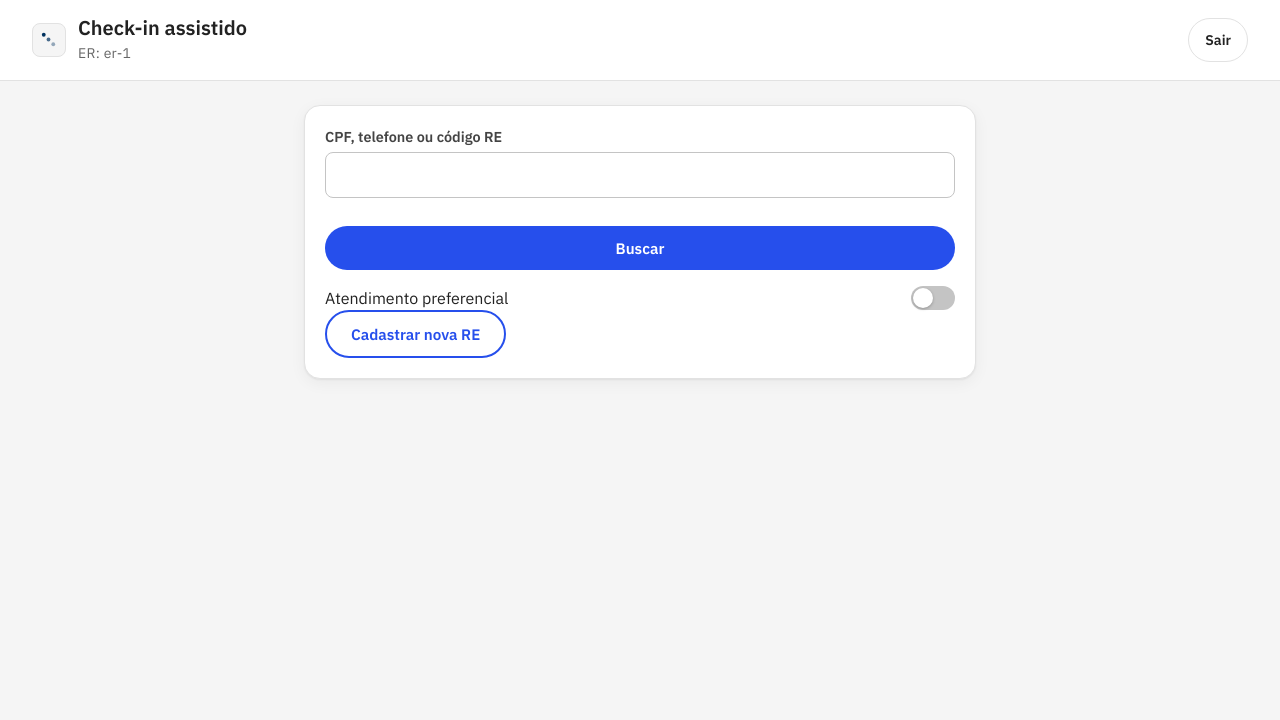
Scenario: CheckinAttendantPage › shows a generic message when the ticket request rejects with a non-error value
In the field labelled "CPF, telefone ou código RE": point(640, 175) [325,152,955,198], type "ana"
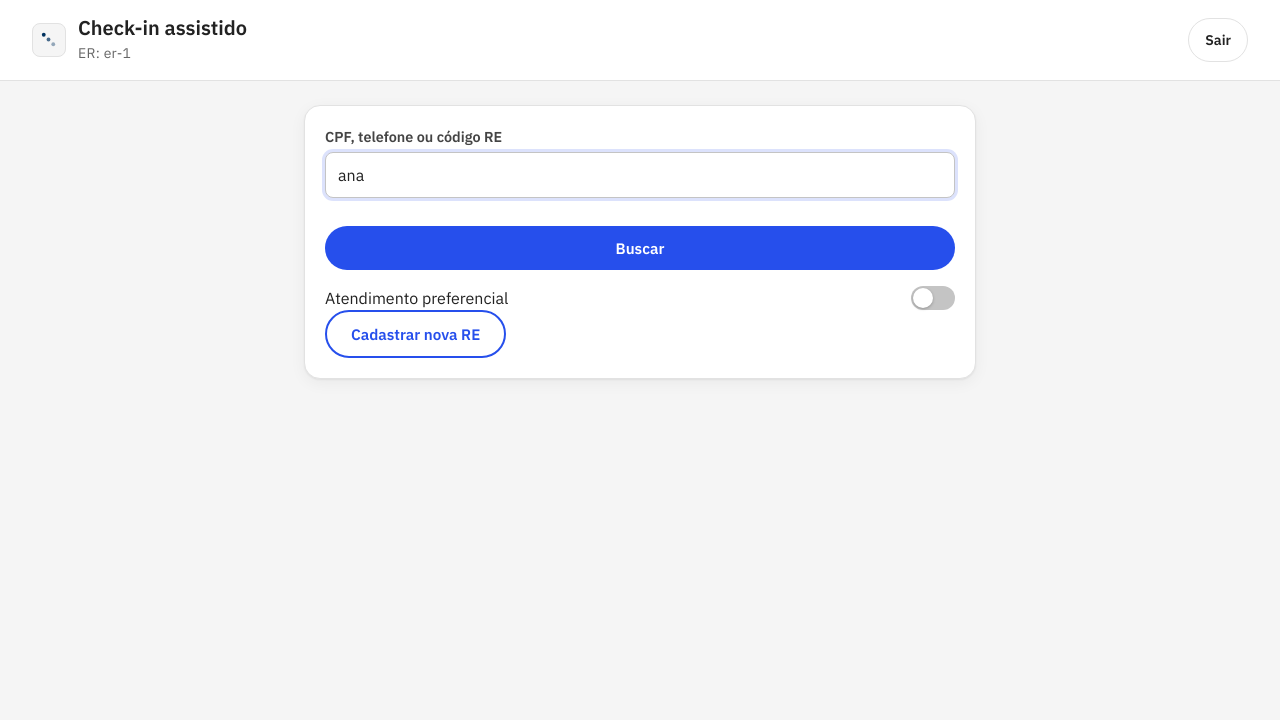
Click the button "Buscar": point(640, 248) [325,226,955,270]
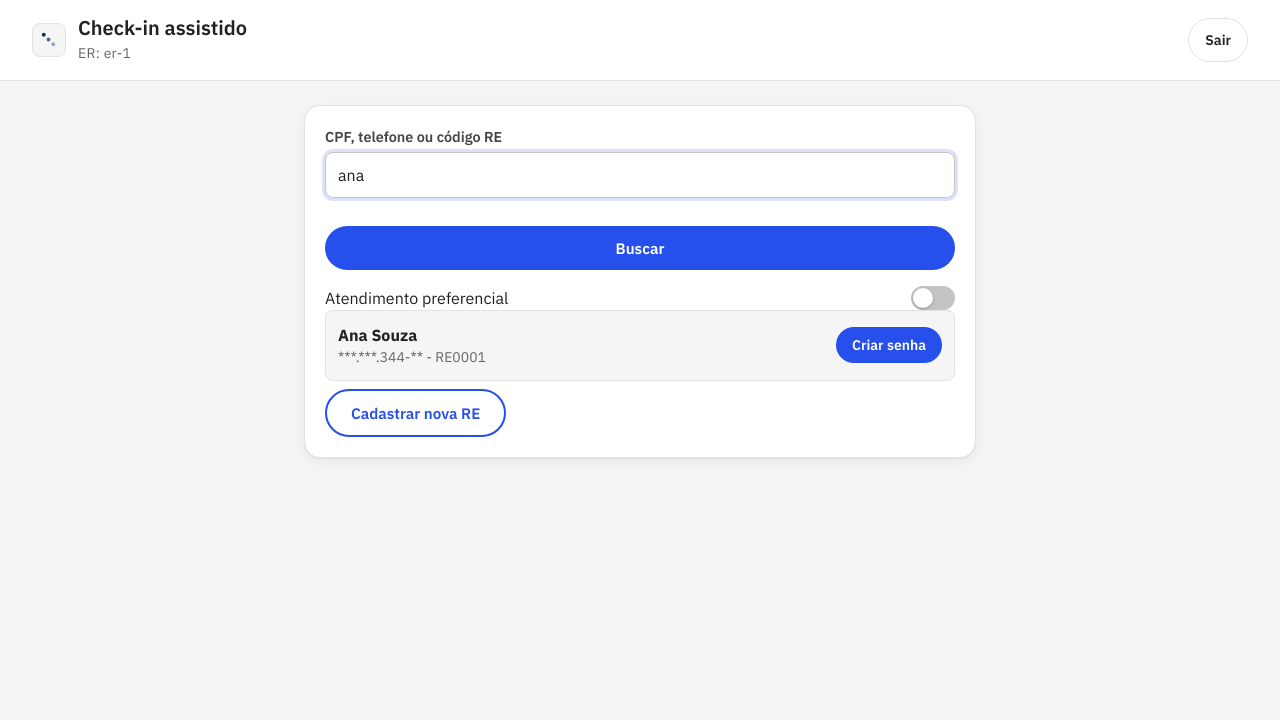
Click the button "Criar senha": point(889, 345) [836,327,942,363]
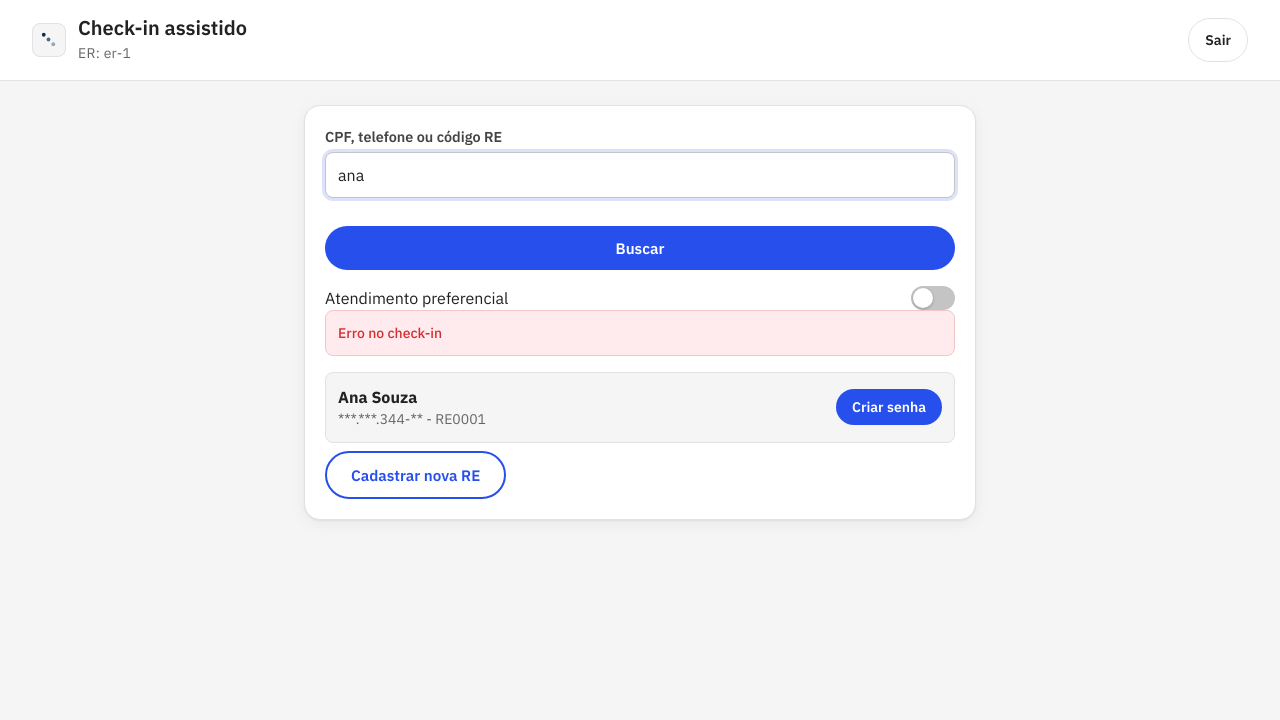
Now the text "Erro no check-in" is shown, box [325,310,955,356]
